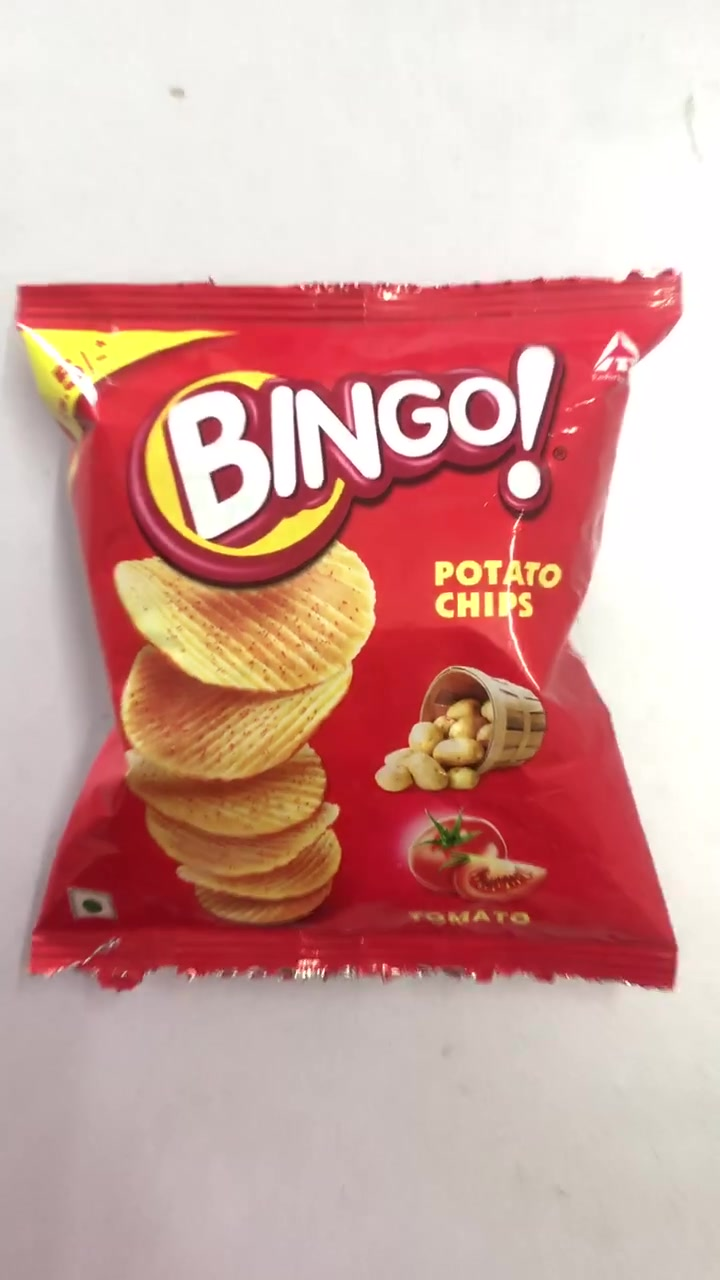Bingo: (13, 284, 683, 985)
